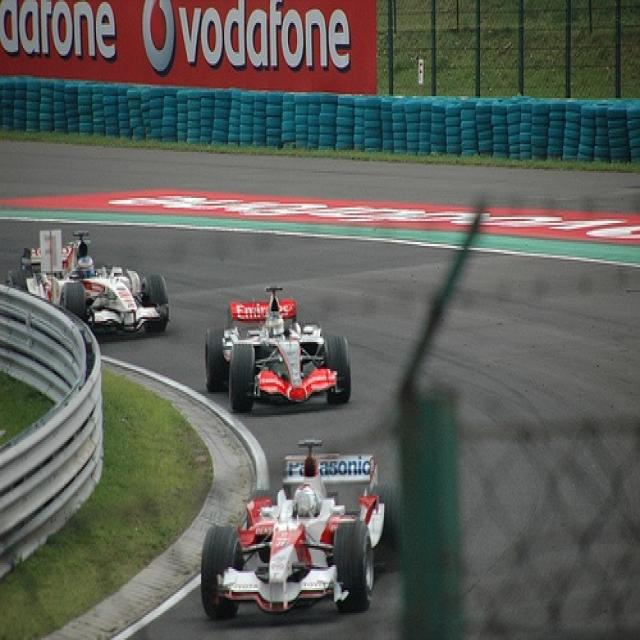car: (198, 434, 404, 621), (202, 283, 355, 415), (7, 225, 172, 344)
